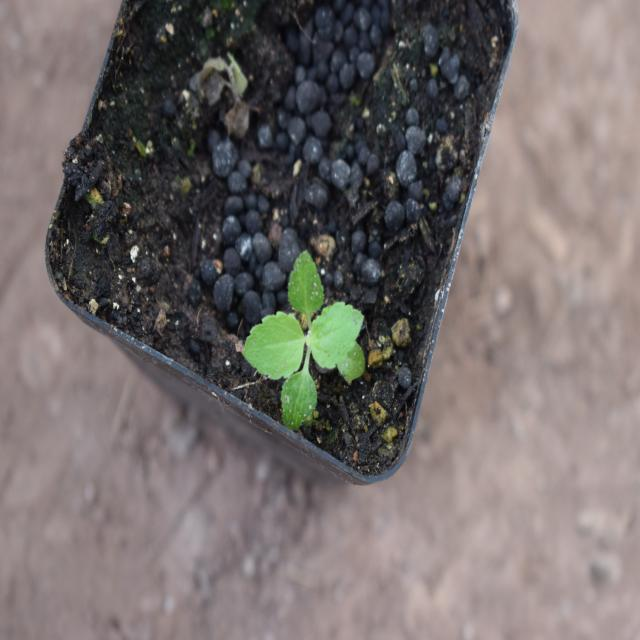billygoat_weed: (235, 252, 368, 416)
